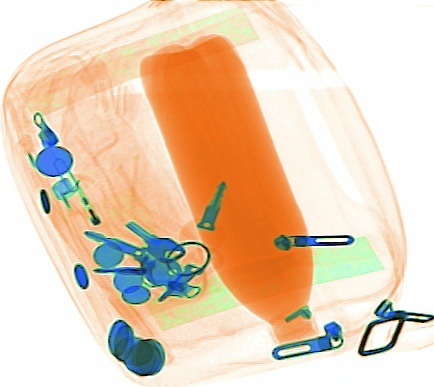lighter: (49, 169, 120, 267)
